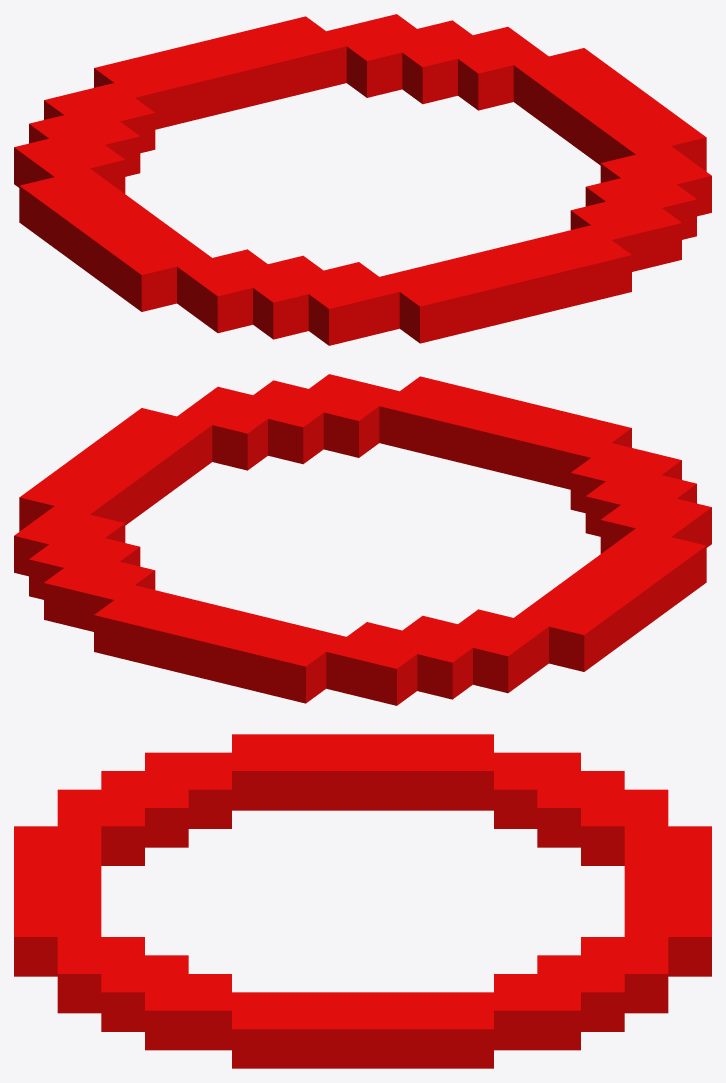
The model's file is checkpoint-outer.obj.
The picture shows the model from 3 angles, top to bottom: view 1: azimuth 30°, elevation 25°; view 2: azimuth 150°, elevation 25°; view 3: azimuth 270°, elevation 25°; orthographic projection. The views are drawn at different scales.
Bounding box in the file's own units: 16 × 1 × 16.
Materials: 1 (1 with a texture image).
